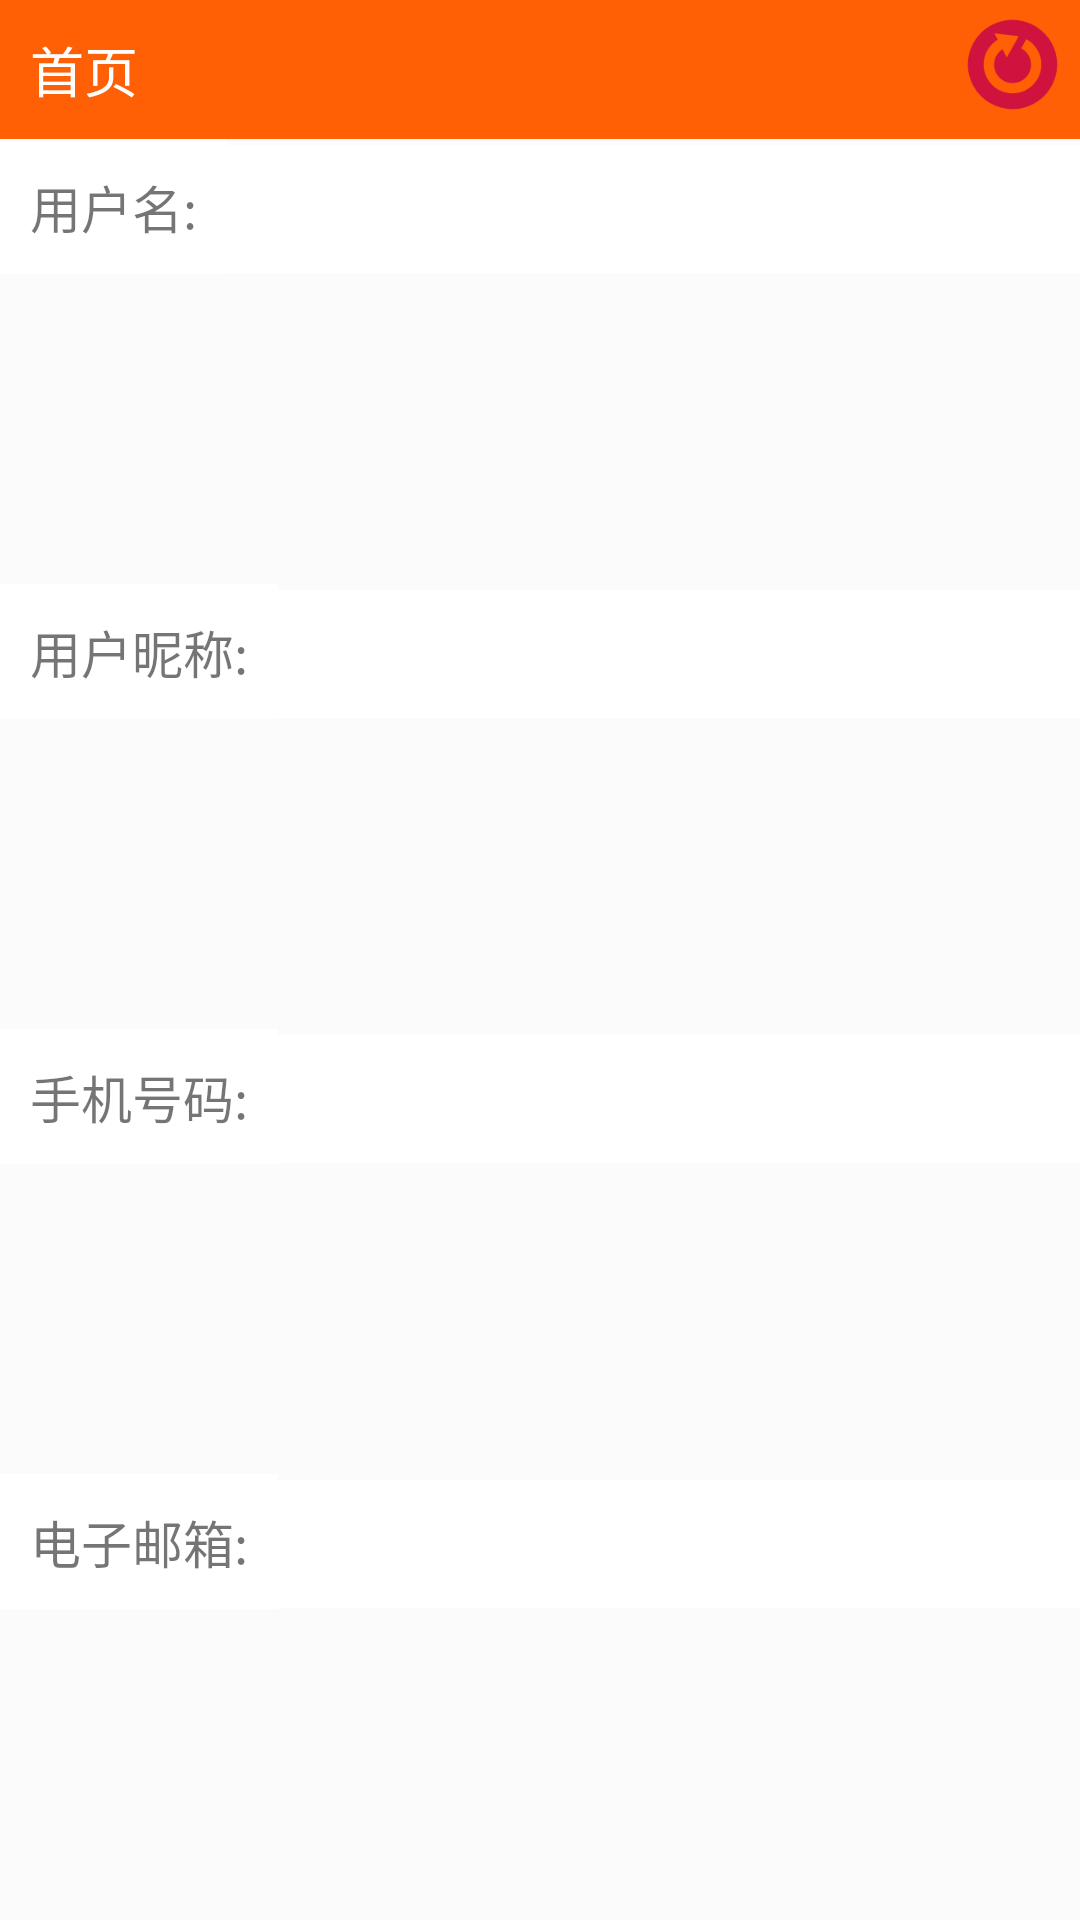

Icon click points for this 1080w x 1920h phone screenshot, format point (x, y):
refresh: point (1012, 64)
